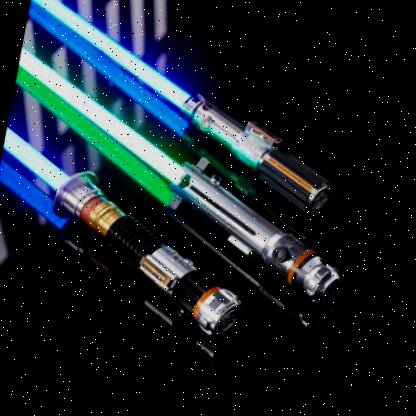lightsaber: (0, 6, 389, 330), (0, 0, 384, 243), (0, 103, 283, 367)
